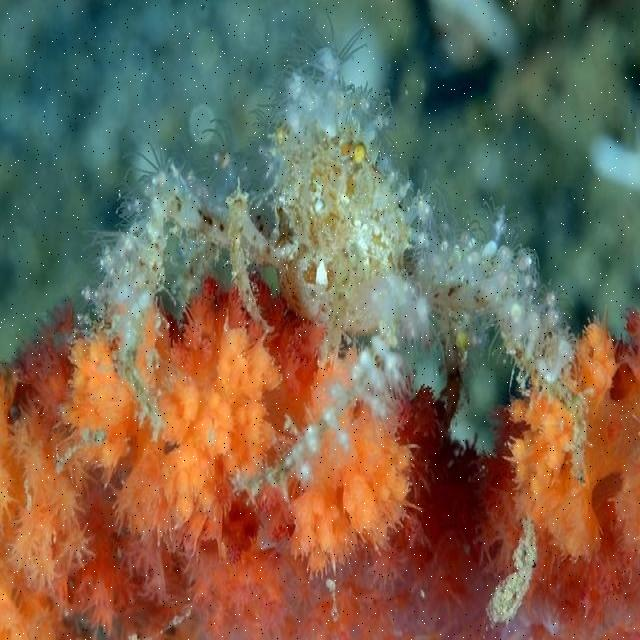reefs: (77, 45, 591, 493), (1, 284, 638, 637)
